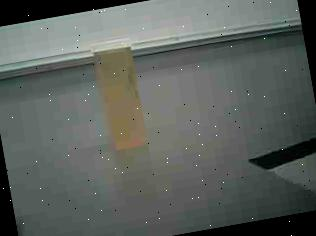Bottle A: (85, 27, 163, 161)
